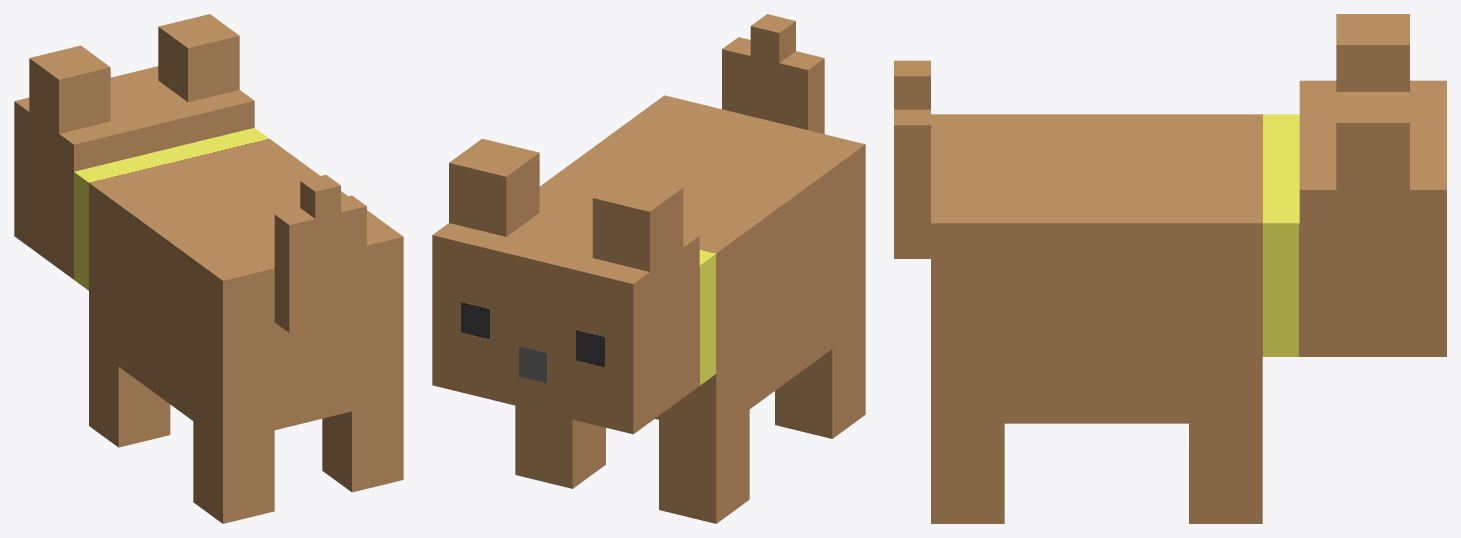
The model's file is char_puppy_brown.dae.
The picture shows the model from 3 angles, left to right: view 1: azimuth 30°, elevation 25°; view 2: azimuth 150°, elevation 25°; view 3: azimuth 270°, elevation 25°; orthographic projection. The views are drawn at different scales.
Parts seen in each view (by area): view 1: char_puppy_brown; view 2: char_puppy_brown; view 3: char_puppy_brown.
Boxes of the visible parts, x1,y1,x2,y2 form: char_puppy_brown: (14,14,403,523); char_puppy_brown: (432,14,865,523); char_puppy_brown: (894,14,1446,523).
Bounding box in the file's own units: 0.7 × 1.2 × 1.5.
